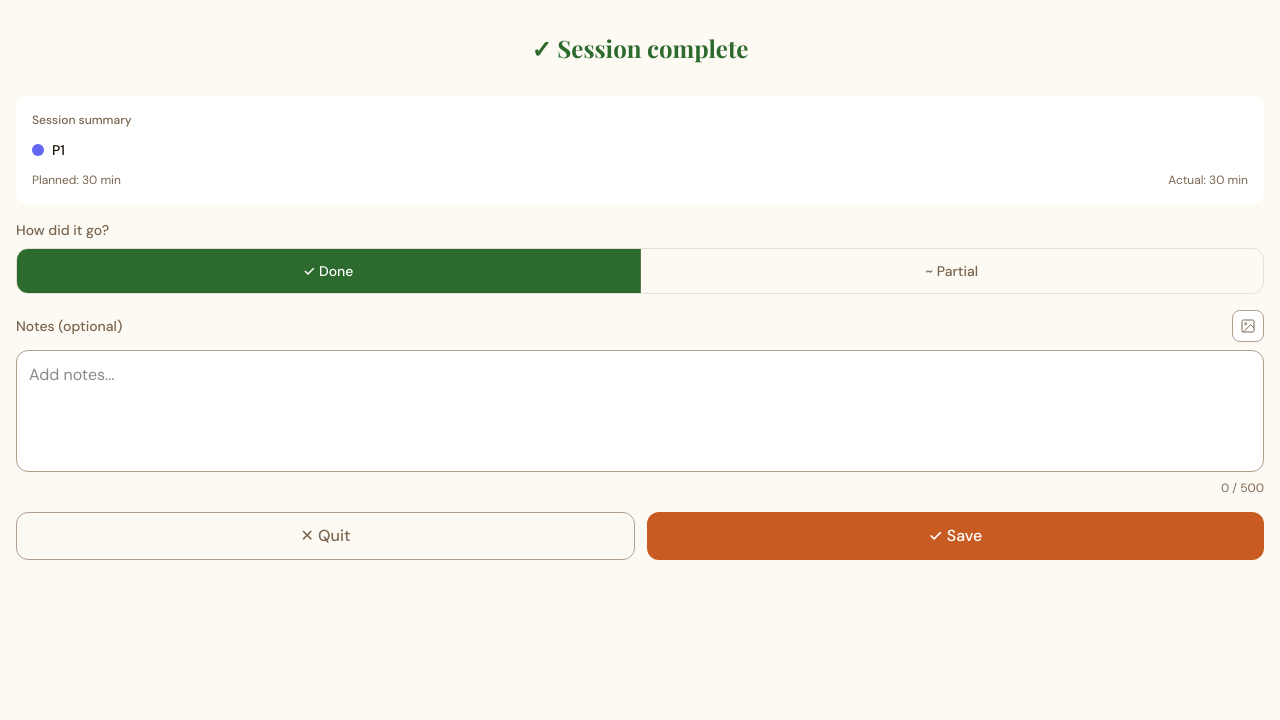
Test: SessionComplete save flow › clicking Quit opens a confirmation dialog instead of navigating immediately
Click the button "✕ Quit" at x=326, y=536, box [16,512,635,560]
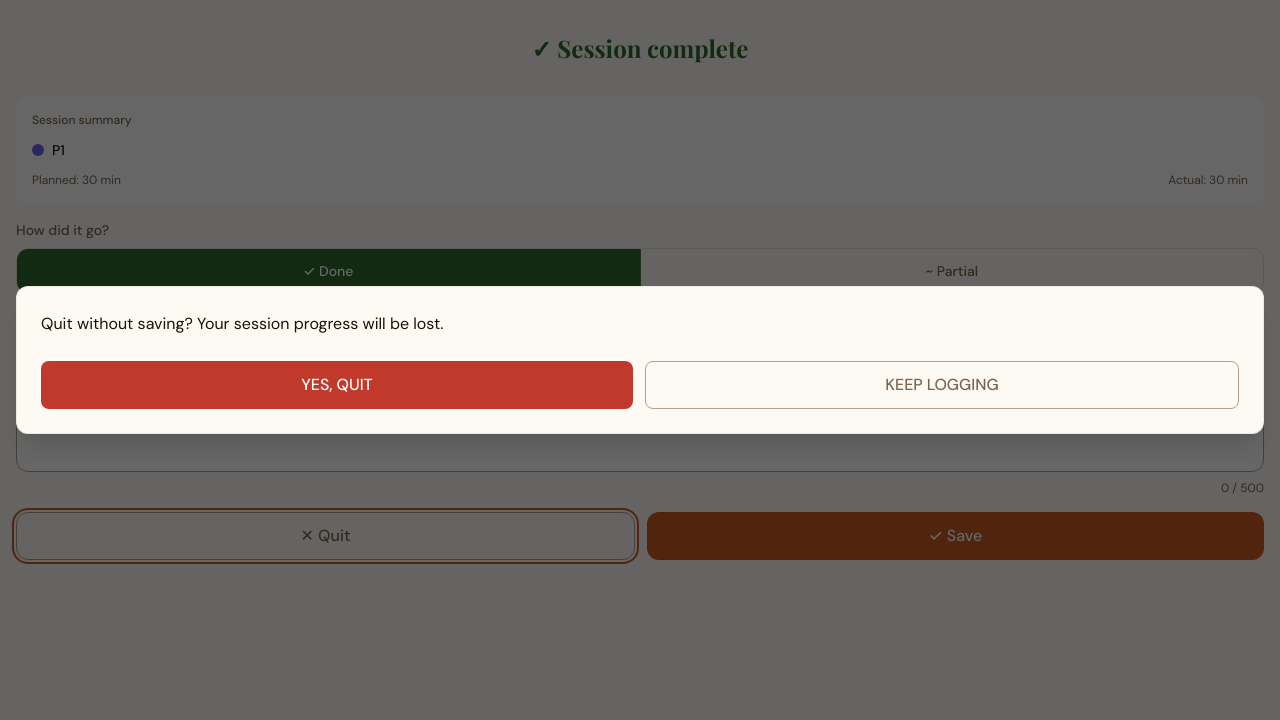
expect the dialog is shown: met, box [16,286,1264,434]
expect the text "Quit without saving? Your session progress will be lost." is shown: met, box [41,313,444,334]
